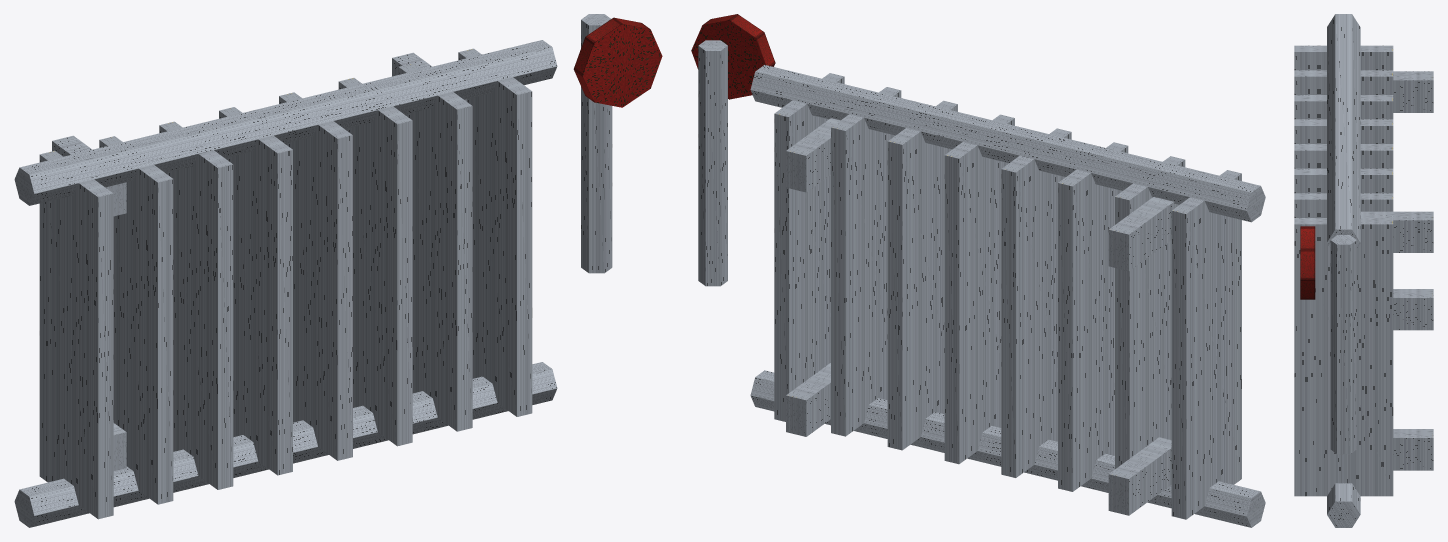
Rendered from radiator_heater.glb.
3 views of the same model, side by side, from view 1: azimuth 30°, elevation 25°; view 2: azimuth 150°, elevation 25°; view 3: azimuth 270°, elevation 25° (orthographic). The views are drawn at different scales.
Parts seen in each view (by area): view 1: bn_radiator_heater_sample; view 2: bn_radiator_heater_sample; view 3: bn_radiator_heater_sample.
Part boxes in pixels (x1=…): bn_radiator_heater_sample: x1=14, y1=14, x2=662, y2=527; bn_radiator_heater_sample: x1=691, y1=14, x2=1265, y2=527; bn_radiator_heater_sample: x1=1294, y1=14, x2=1433, y2=527.
Bounding box in the file's own units: 0.995 × 0.5892 × 0.2325.
Materials: 3 (3 with a texture image).
